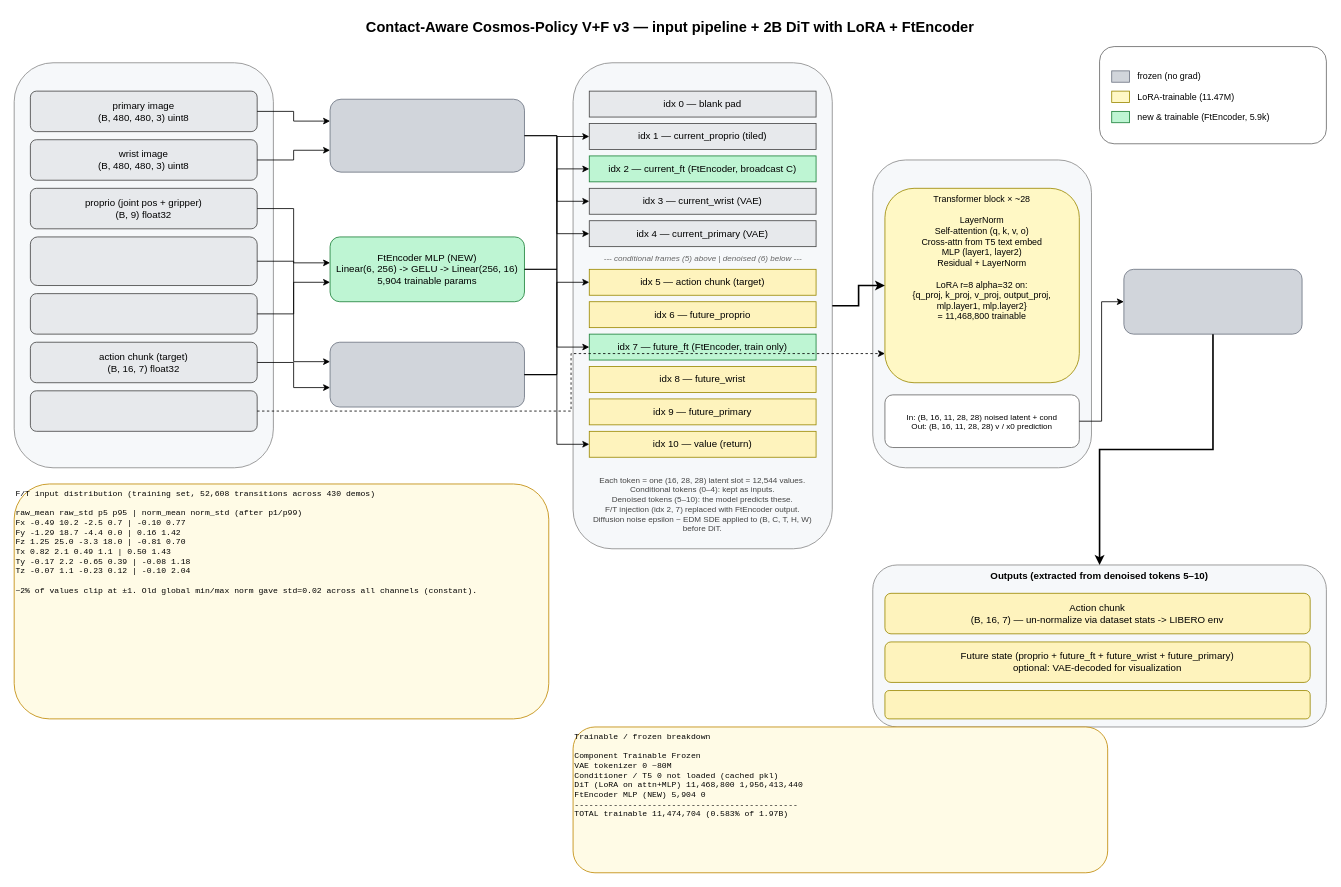
The diagram is 1341 pixels wide and 887 high, and some of its shapes have lost their labels. The shapes that lost their labels are listed below. From the top down, each one's box as (x1, y1, x2, y2) in pixels, then its label:
(1099, 46, 1326, 144): Legend
(329, 98, 524, 172): VAE Tokenizer (frozen, ~80M) 480x480 -> 28x28 C: 3 -> 16
(13, 62, 273, 468): Inputs (per sample, B=4)
(30, 236, 257, 286): current_ft (wrist F/T, p1/p99-norm) (B, 6) float32 Fx Fy Fz Tx Ty Tz
(30, 293, 257, 334): future_ft (training only) (B, 6) float32
(572, 62, 832, 549): Latent token sequence (B, C=16, T=11, H=28, W=28)
(872, 159, 1091, 468): Cosmos-Predict2-2B DiT (1.97B params, ~28 transformer blocks)
(1123, 269, 1302, 334): EDM Sampler σ_max=80, σ_min=4 5 denoising steps
(329, 341, 524, 407): Tile / replicate (no params) 9D, 7x16D, scalar -> (16, 28, 28)
(30, 390, 257, 431): t5_text_embeddings (cached) (B, T_t5, D_t5) bf16
(884, 690, 1310, 719): Value V(s) scalar return prediction (gamma=0.99)
